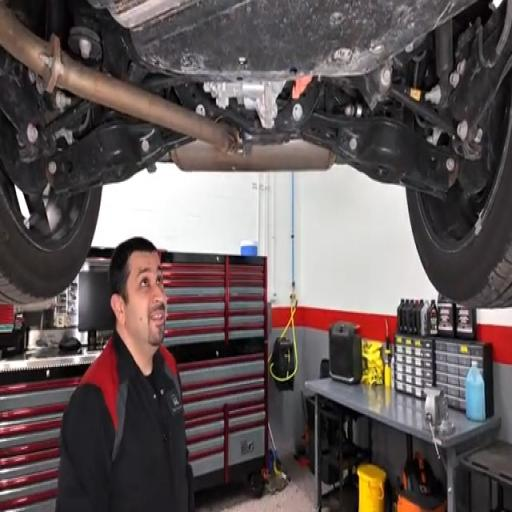exhaust: (0, 2, 236, 153), (171, 140, 335, 172)
tire: (407, 117, 511, 308), (0, 187, 101, 304)
wheel: (407, 77, 511, 308), (0, 170, 101, 304)
